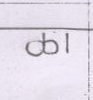o_matra: (36, 2, 85, 51)
